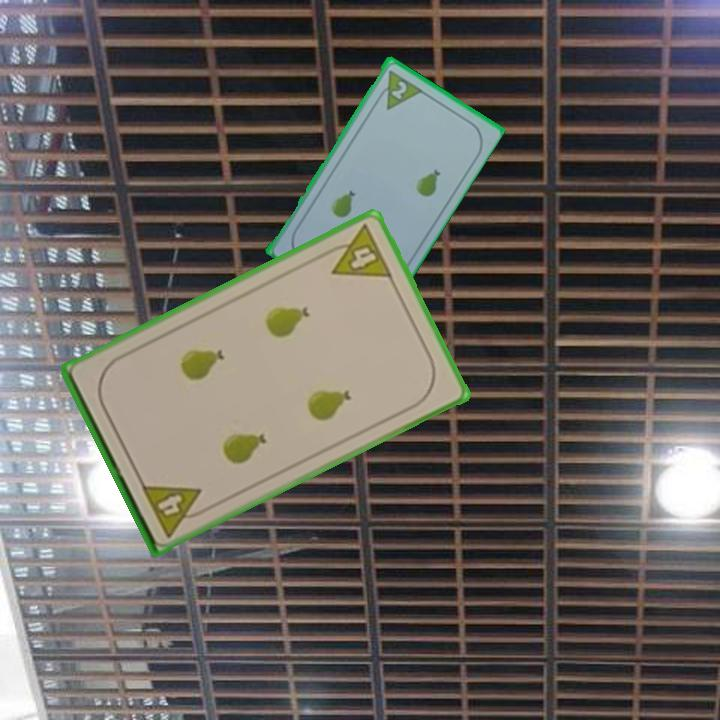2p: (372, 66, 424, 112)
4p: (319, 221, 396, 281), (137, 480, 212, 540)
